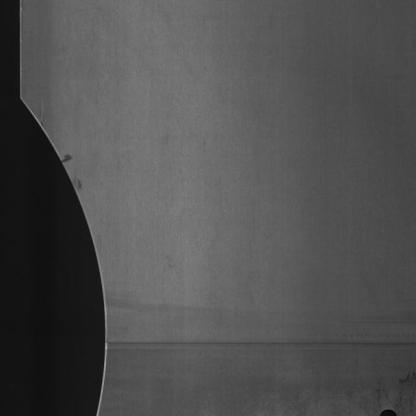crescent_gap: (12, 82, 113, 416)
welding_line: (93, 320, 416, 362)
